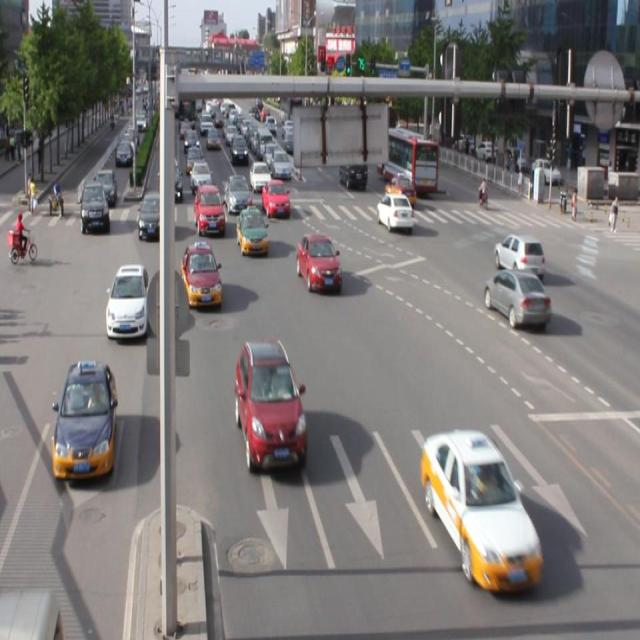car: (421, 430, 542, 594), (234, 338, 308, 474), (52, 360, 118, 479), (482, 266, 550, 330), (106, 264, 150, 338), (297, 233, 342, 294), (181, 243, 222, 308), (492, 232, 543, 280), (236, 206, 269, 256), (376, 192, 413, 230)
